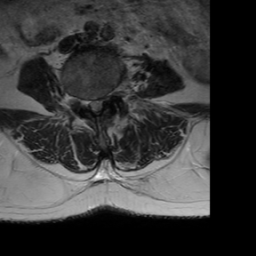CCS_stenosis: (93, 91, 99, 121)
LFS_stenosis: (105, 87, 111, 105)
LLS_severe_stenosis: (99, 91, 105, 114)
RFS_normal: (80, 92, 87, 114)
RLS_normal: (87, 92, 94, 115)
